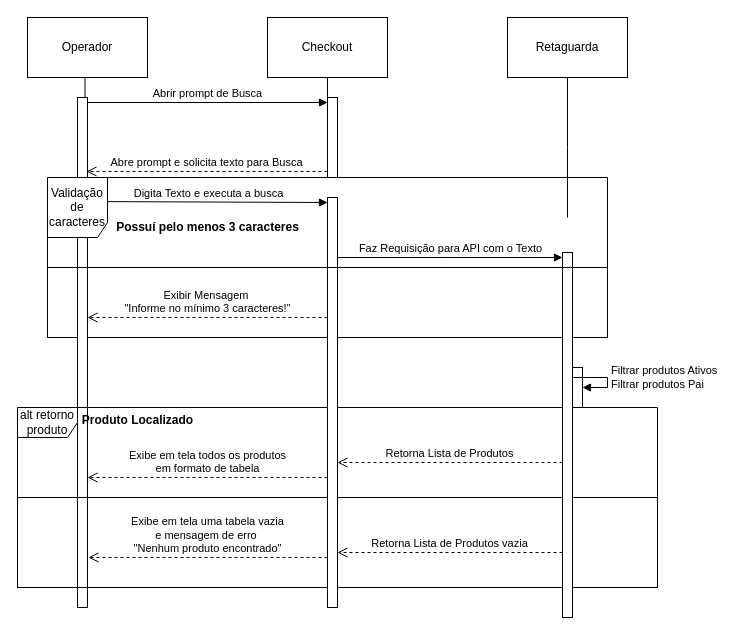
The diagram is 735 pixels wide and 635 high, and some of its shapes have lost their labels. Here are the shapes that lost their labels. From the top down, the centre of each, then its label:
(327,302): Não Possuí pelo menos 3 caracteres
(337,542): Produto não localizado
